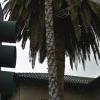Palm tree: (16, 2, 88, 97)
